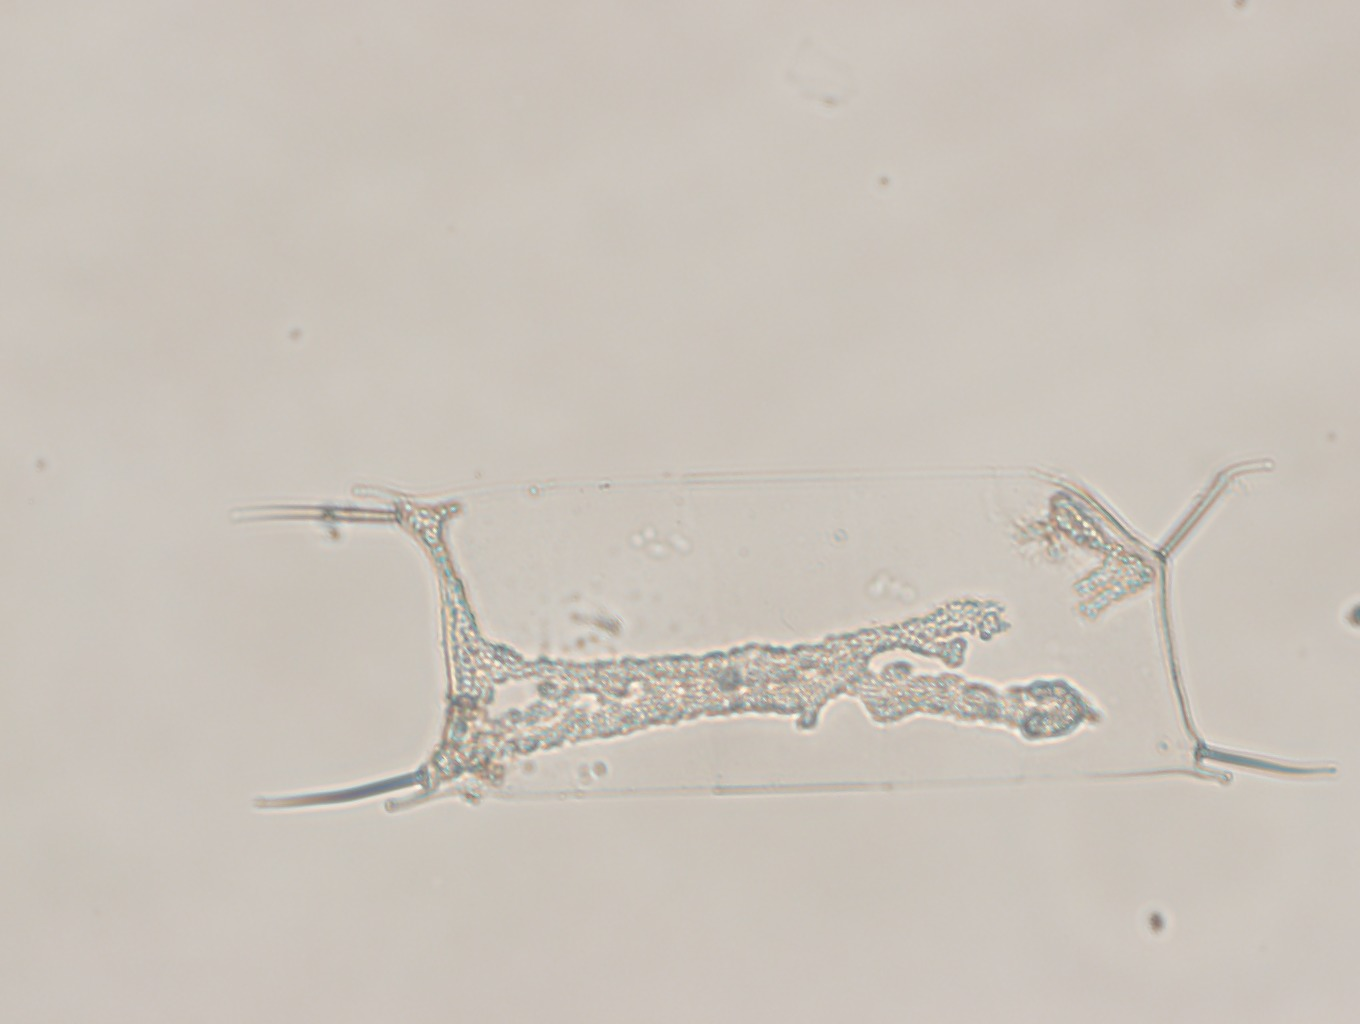biddulphia: (202, 452, 1348, 835)
